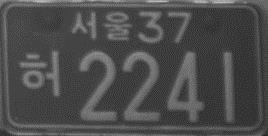1: (219, 49, 241, 126)
2: (122, 50, 164, 126), (77, 49, 119, 122)
3: (137, 9, 164, 45)
4: (167, 50, 206, 123)
7: (166, 10, 193, 45)
서울_O: (72, 10, 131, 44)
허: (18, 49, 62, 100)
